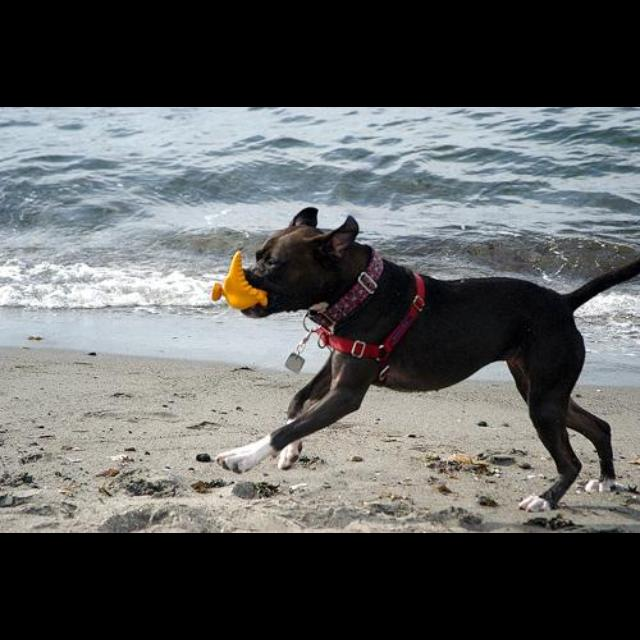amstaff: (215, 207, 639, 514)
